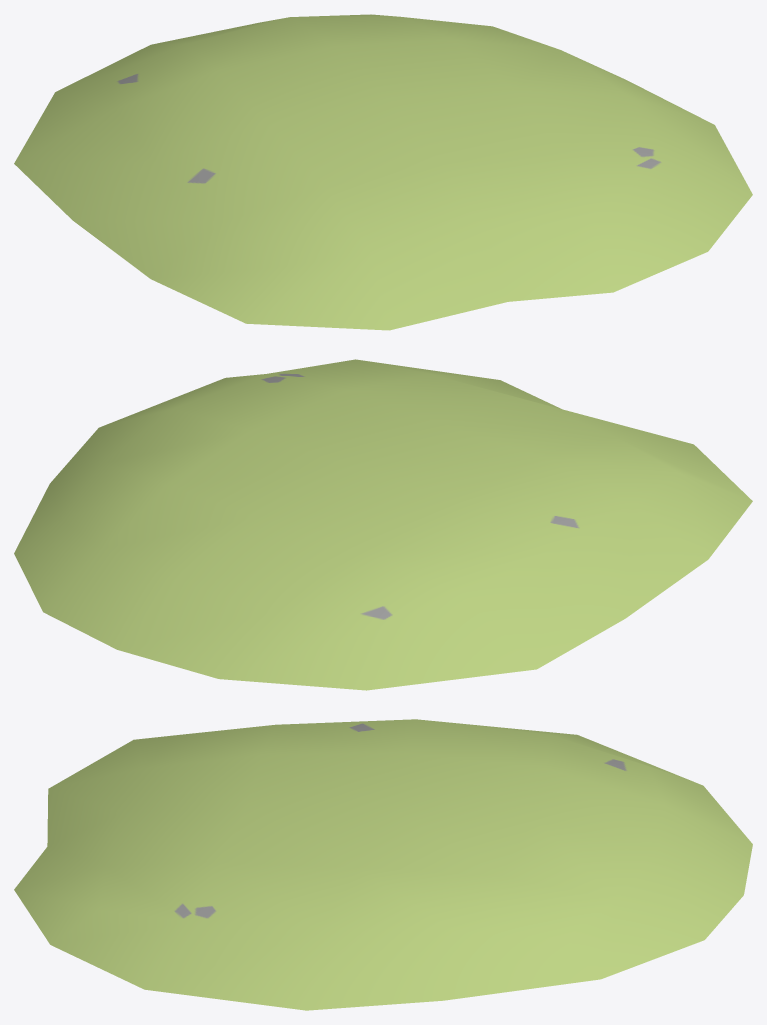
File: steppe_grass.glb
The picture shows the model from 3 angles, top to bottom: view 1: azimuth 30°, elevation 25°; view 2: azimuth 150°, elevation 25°; view 3: azimuth 270°, elevation 25°; orthographic projection.
Visible parts, largest first — view 1: Object_2; view 2: Object_2; view 3: Object_2.
Boxes of the visible parts, box(x1,y1,x2,y2) form: Object_2: box(14, 14, 752, 330); Object_2: box(14, 359, 752, 690); Object_2: box(14, 719, 752, 1010).
Bounding box in the file's own units: 15.51 × 1.65 × 17.08.
1 material, 1 textured.
